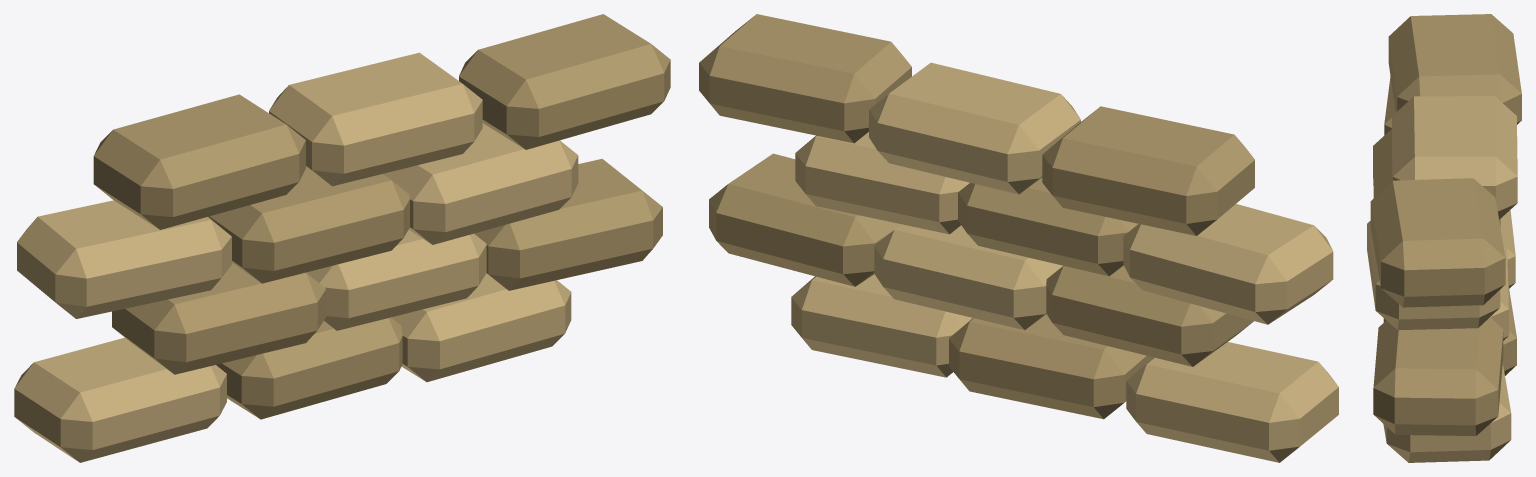
Rendered from sandbag.glb.
3 views of the same model, side by side, from view 1: azimuth 30°, elevation 25°; view 2: azimuth 150°, elevation 25°; view 3: azimuth 270°, elevation 25° (orthographic). The views are drawn at different scales.
Parts seen in each view (by area): view 1: Sandbag; view 2: Sandbag; view 3: Sandbag.
Boxes of the visible parts, x1,y1,x2,y2 form: Sandbag: (14, 14, 670, 462); Sandbag: (699, 14, 1338, 462); Sandbag: (1367, 14, 1521, 462).
Bounding box in the file's own units: 1.82 × 0.8 × 0.4214.
